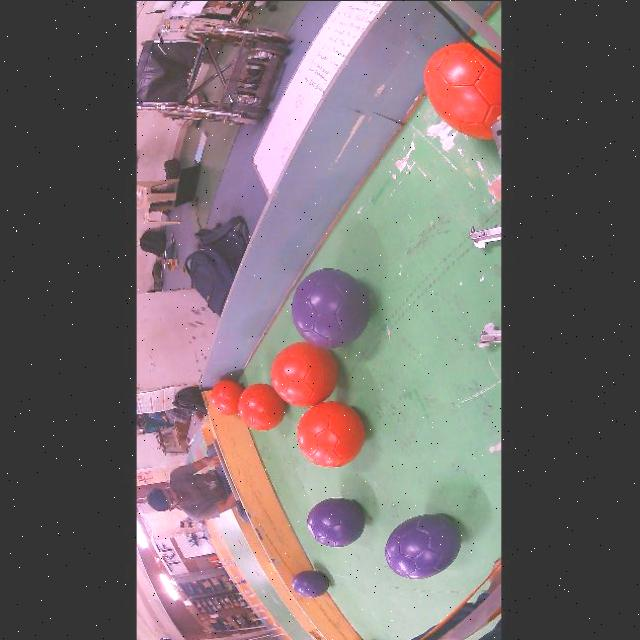P: (291, 268, 370, 348), (385, 512, 461, 578), (306, 497, 365, 547), (292, 569, 329, 596)
R: (424, 42, 501, 138), (297, 401, 365, 467), (271, 340, 338, 406), (238, 382, 286, 430), (211, 378, 244, 414)
